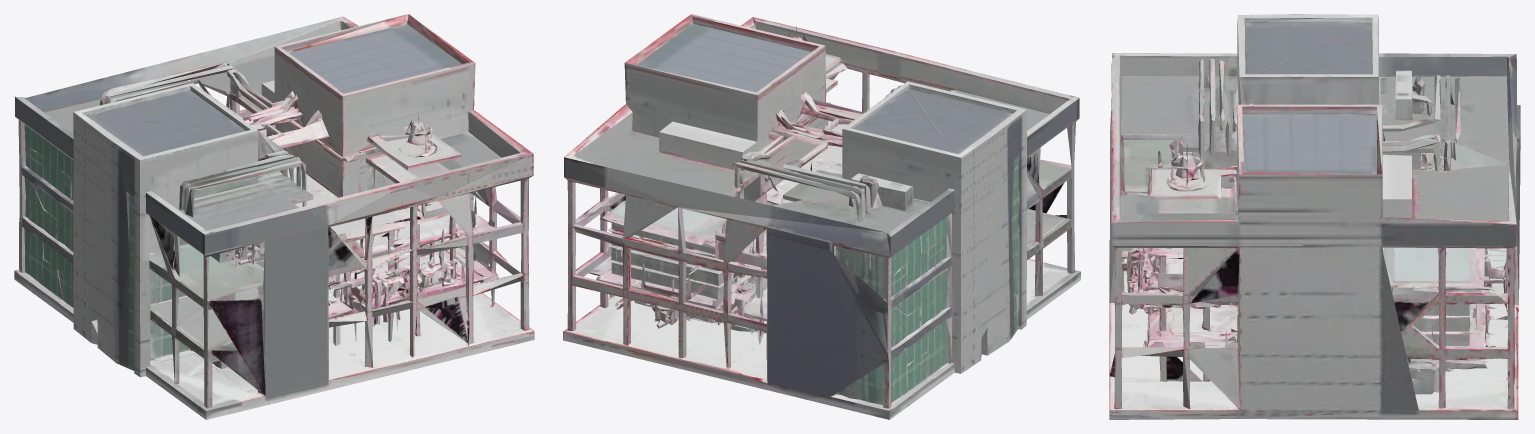
The model's file is design.glb.
The picture shows the model from 3 angles, left to right: view 1: azimuth 30°, elevation 25°; view 2: azimuth 150°, elevation 25°; view 3: azimuth 270°, elevation 25°; orthographic projection. The views are drawn at different scales.
Size of the model in its own units: 1.88 by 1.23 by 1.85.
Materials: 1 (1 with a texture image).
